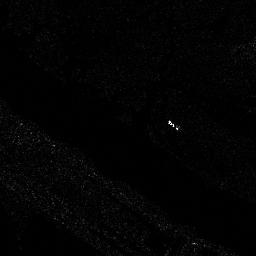ship: (166, 118, 183, 134)
